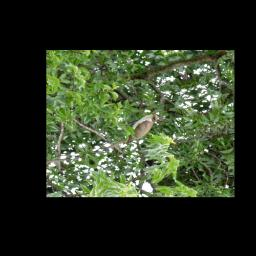Cuckoo: (87, 109, 170, 153)
